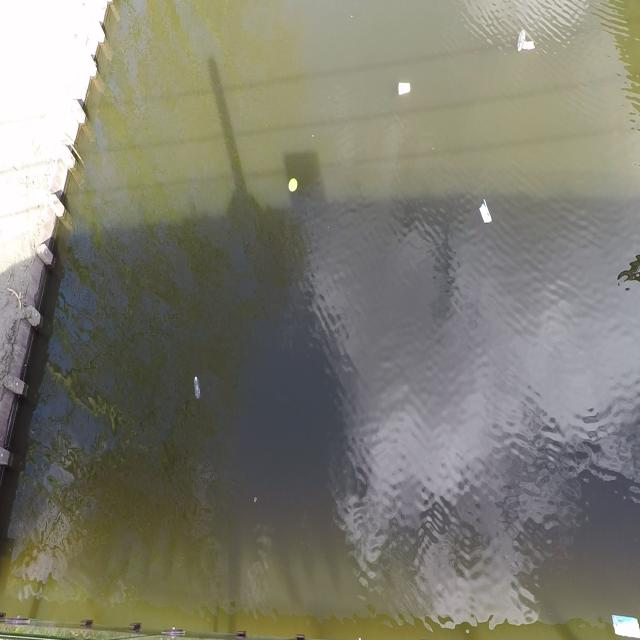Bouteille plastique: (191, 371, 205, 402), (516, 27, 526, 56)
Non plastique: (396, 79, 414, 100)
